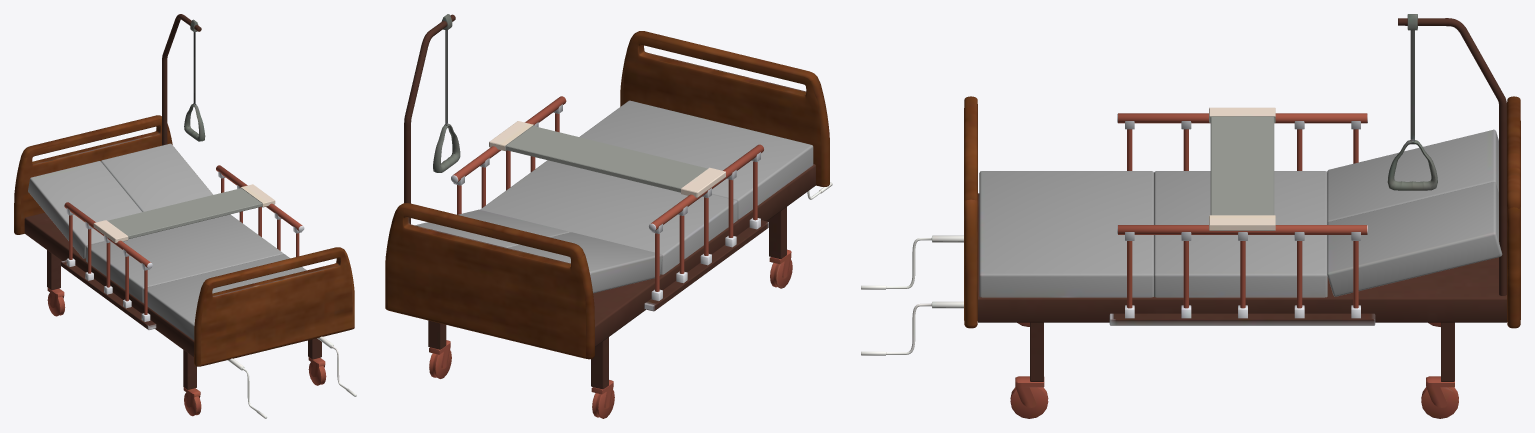
The model's file is Bed.fbx.
3 renders of one model, left to right at view 1: azimuth 30°, elevation 25°; view 2: azimuth 150°, elevation 25°; view 3: azimuth 270°, elevation 25°, orthographic. The views are drawn at different scales.
Parts seen in each view (by area): view 1: Bed; view 2: Bed; view 3: Bed.
Boxes of the visible parts, x1,y1,x2,y2 form: Bed: (14,14,356,418); Bed: (385,14,832,418); Bed: (861,14,1520,418).
Bounding box in the file's own units: 39.27 × 63.26 × 93.19.
